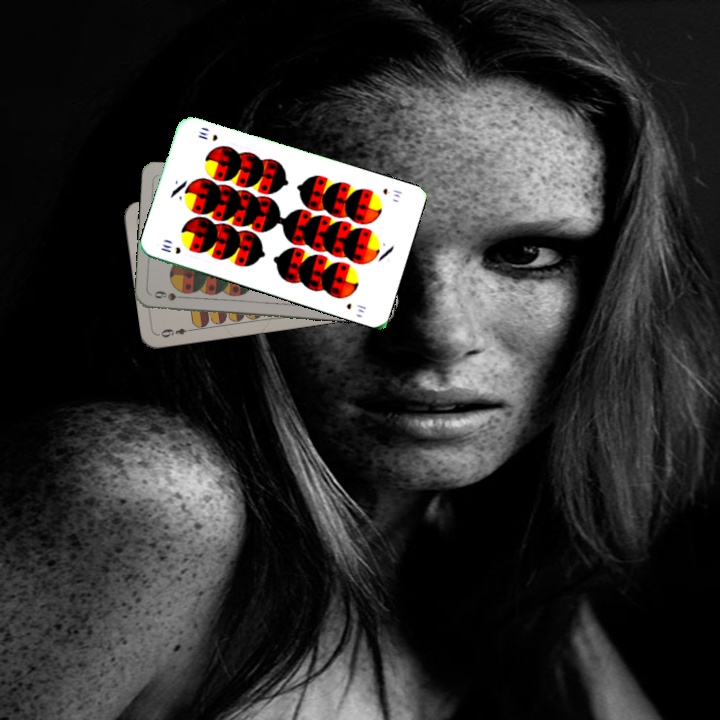E9: (157, 324, 196, 340)
S10: (157, 240, 184, 257), (379, 184, 405, 200)
S9: (150, 287, 190, 303)
